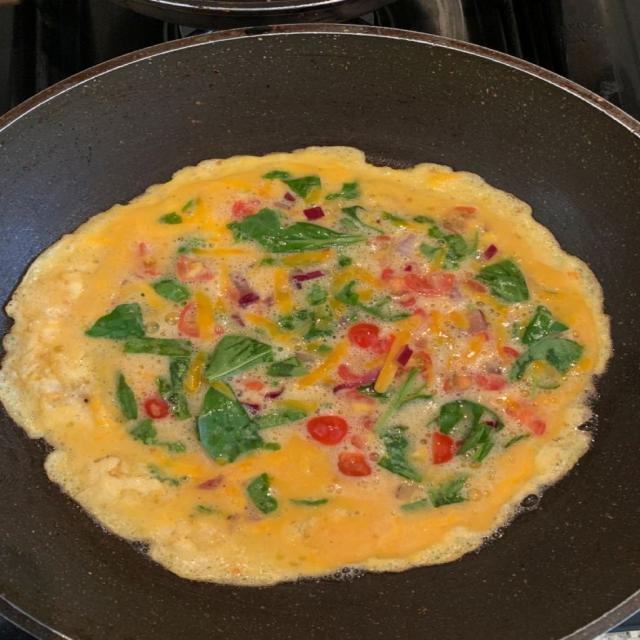omelette: (0, 148, 610, 585)
